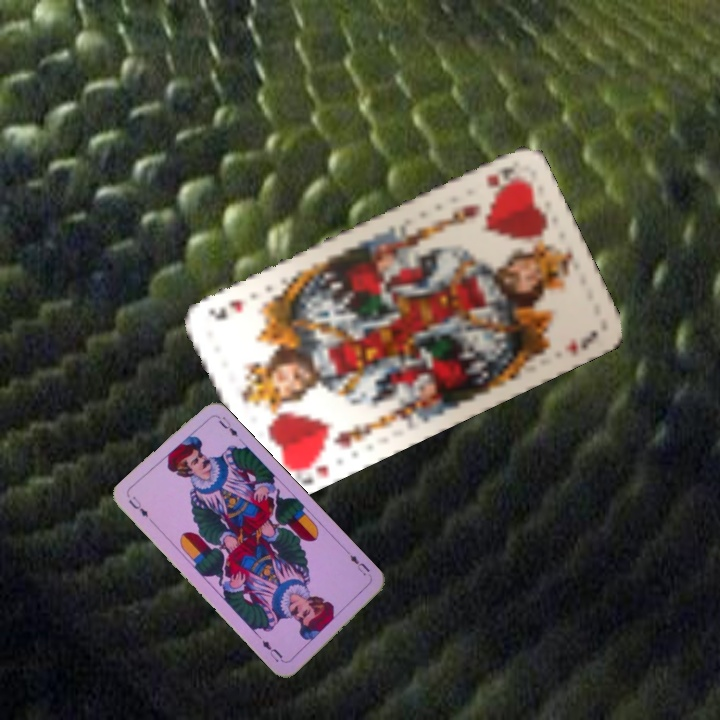EU: (343, 547, 372, 578), (124, 492, 151, 520)
HK: (284, 450, 332, 488), (481, 160, 520, 191)
